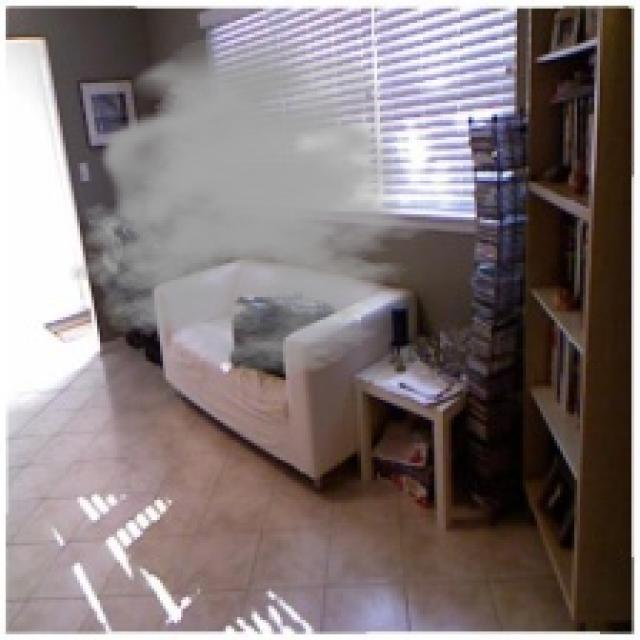Smoke: (68, 34, 446, 377)
